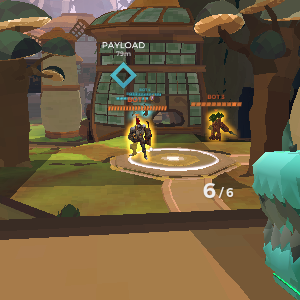model: (127, 114, 153, 161), (207, 109, 235, 146)
